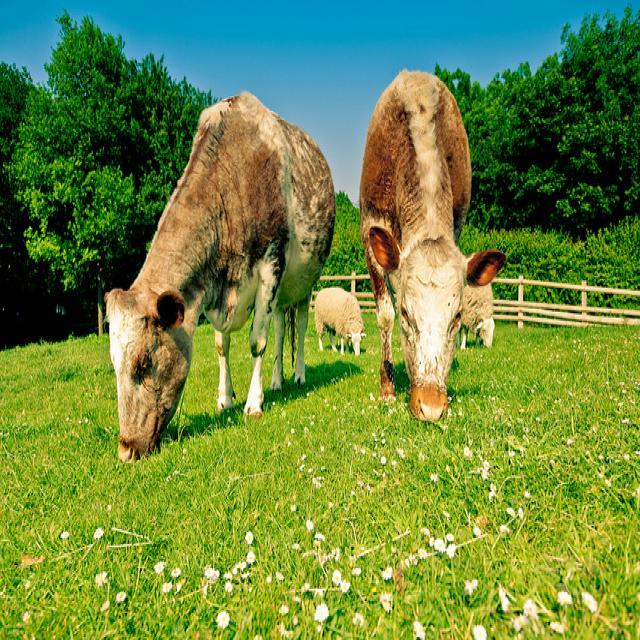cow: (101, 86, 333, 462), (358, 71, 502, 423)
